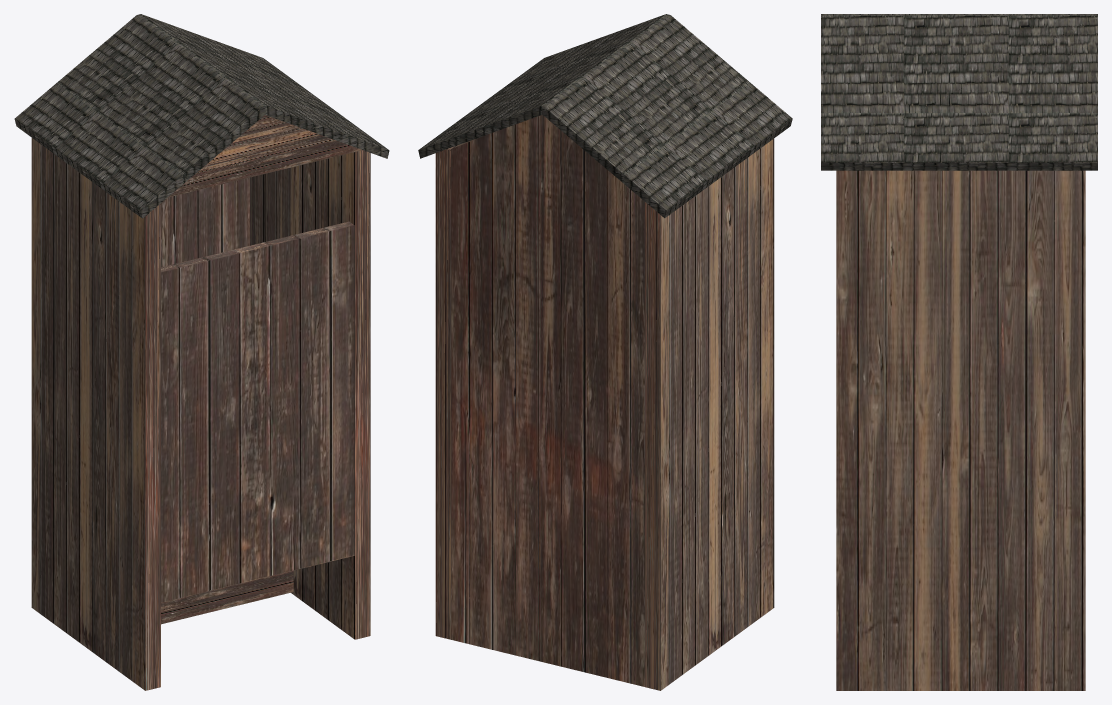
Rendered from Poopy House.fbx.
3 views of the same model, side by side, from view 1: azimuth 30°, elevation 25°; view 2: azimuth 150°, elevation 25°; view 3: azimuth 270°, elevation 25° (orthographic). The views are drawn at different scales.
Parts seen in each view (by area): view 1: pCube8; view 2: pCube8; view 3: pCube8.
Boxes of the visible parts, bbox=[...] form: pCube8: bbox=[14, 14, 389, 690]; pCube8: bbox=[418, 14, 792, 690]; pCube8: bbox=[821, 14, 1097, 690].
Size of the model in its own units: 5.02 by 10.84 by 4.41.
